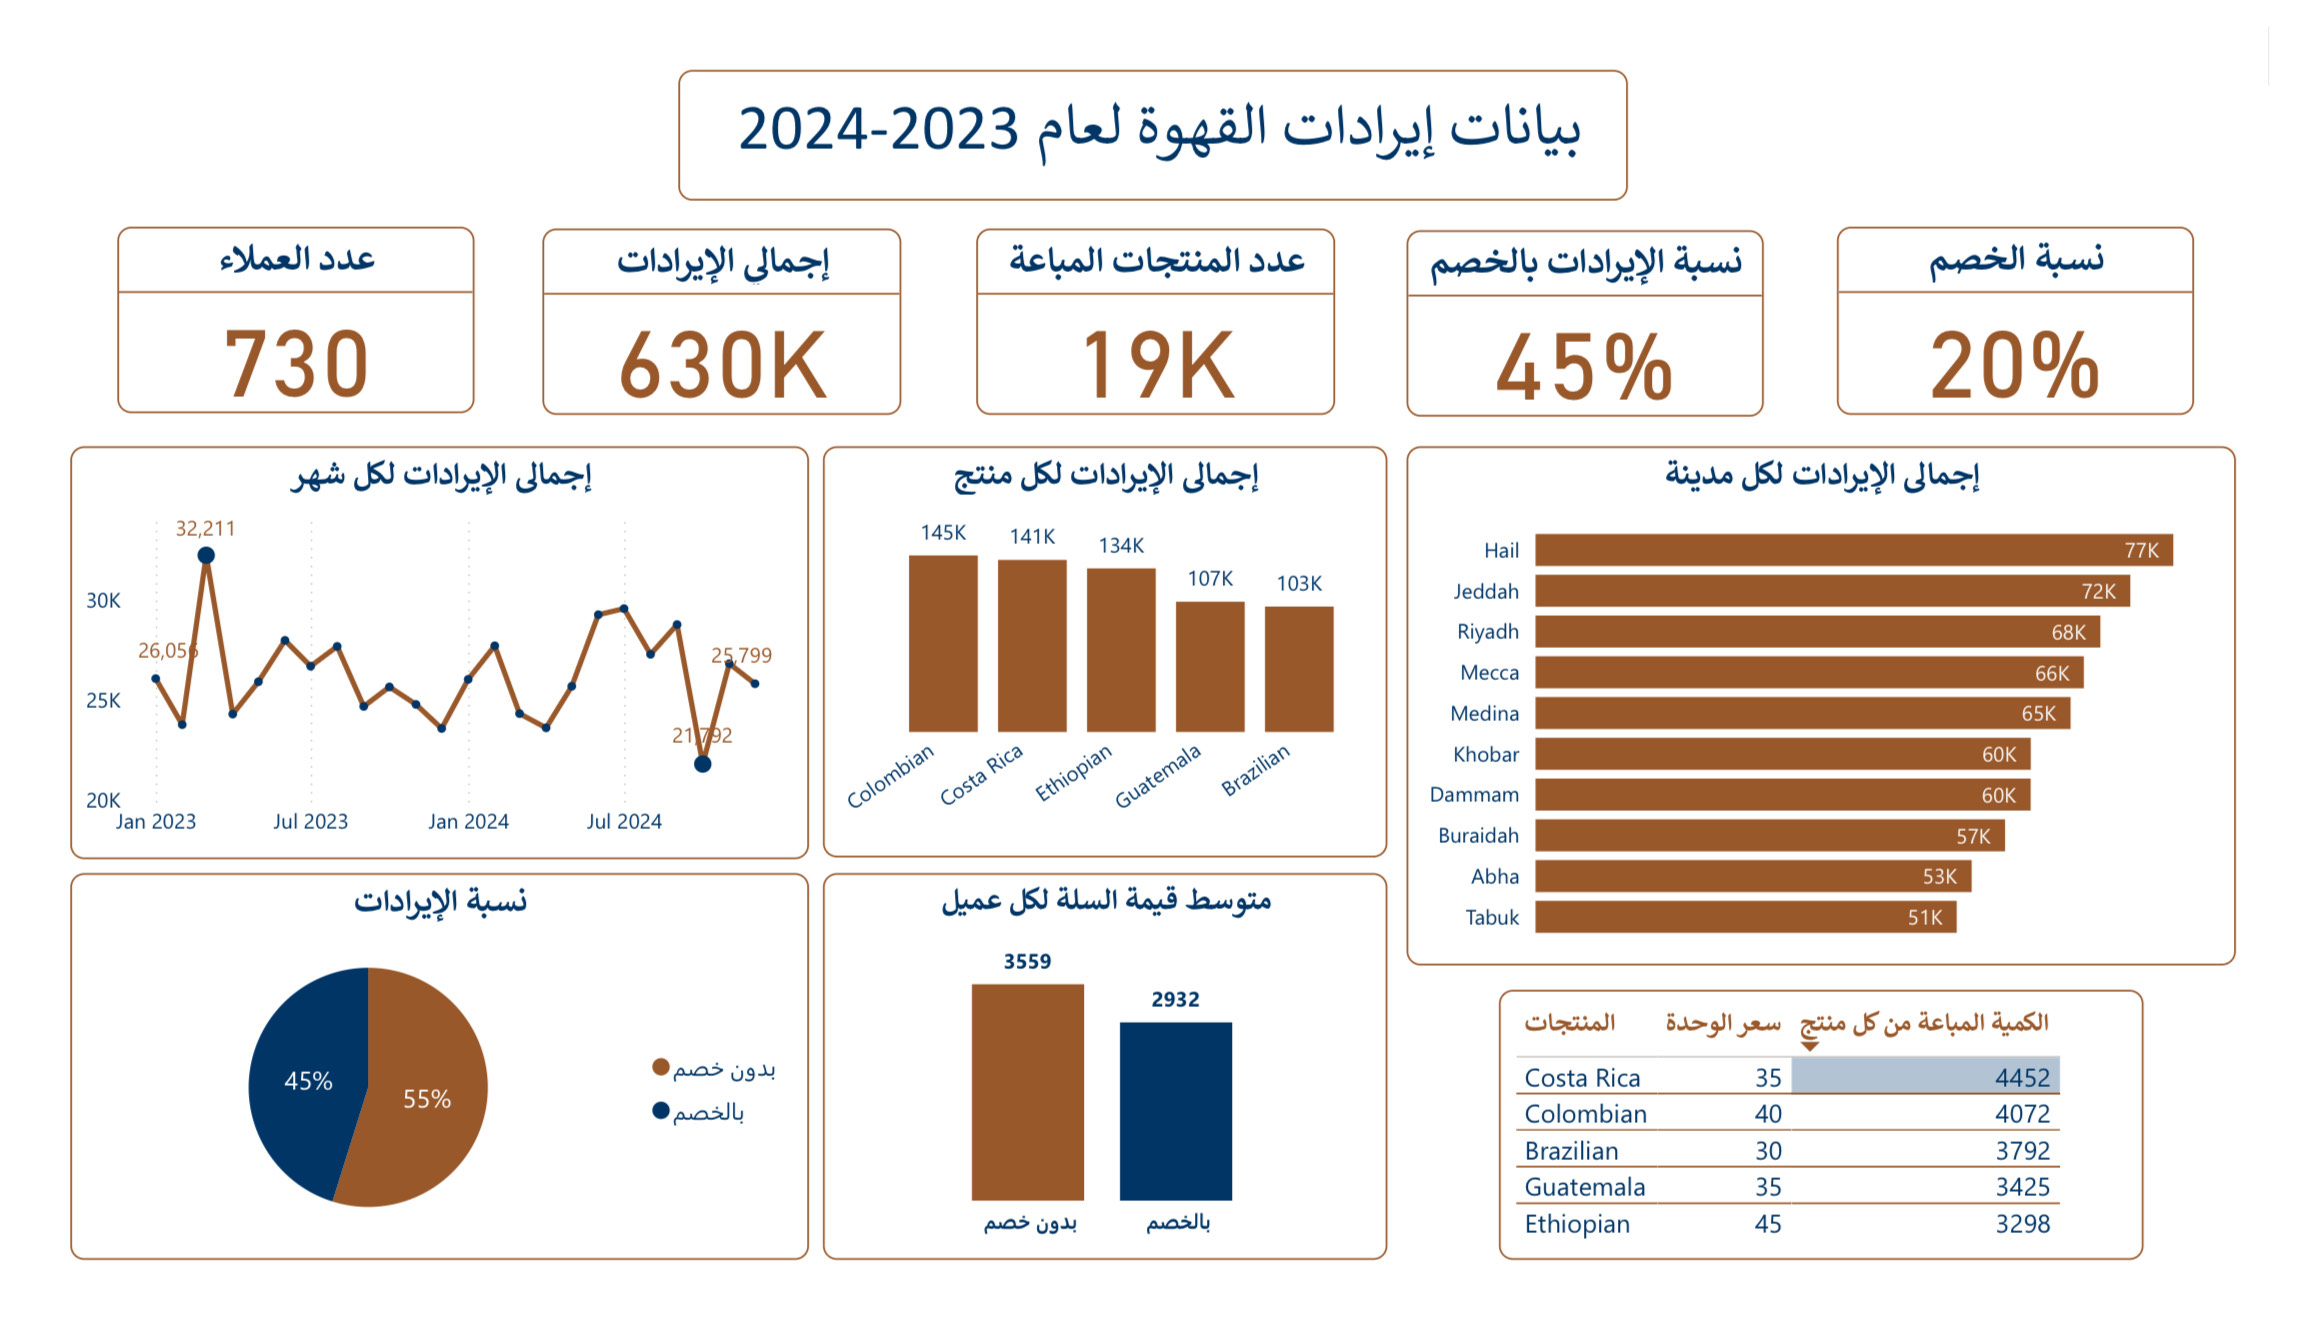

The page's visual inventory and layout, read from the dashboard file:
{"tool":"powerbi","page":{"name":"Page 2","canvas":[1280,720],"ordinal":0},"visuals":[{"type":"card","title":"إجمالي الإيرادات ","fields":{"Values":["Sum(coffee.Final Sales)"]},"box":[289.5,116.1,205.7,107.3],"z":0},{"type":"card","title":"عدد العملاء","fields":{"Values":["CountNonNull(coffee.Customer_ID)"]},"box":[45.5,115.5,205,107],"z":1000},{"type":"card","title":"عدد المنتجات المباعة ","fields":{"Values":["Sum(coffee.Quantity)"]},"box":[537.8,116.1,205.7,107.3],"z":2000},{"type":"card","title":"نسبة الخصم","fields":{"Values":["coffee.Measure"]},"box":[1031.8,115.2,205,107.6],"z":3000},{"type":"lineChart","title":"إجمالي الإيرادات لكل شهر ","fields":{"Category":["coffee.Date.Variation.Date Hierarchy.Year","coffee.Date.Variation.Date Hierarchy.Month"],"Y":["Sum(coffee.Final Sales)"]},"box":[17.6,241,424.7,236.6],"z":4000},{"type":"columnChart","title":"إجمالي الإيرادات لكل منتج","fields":{"Category":["coffee.Product"],"Y":["Sum(coffee.Final Sales)"]},"box":[450,240.9,324.2,236.4],"z":5000},{"type":"clusteredBarChart","title":"إجمالي الإيرادات لكل مدينة","fields":{"Category":["coffee.City"],"Y":["Sum(coffee.Final Sales)"]},"box":[784.8,240.9,475.8,298.5],"z":6000},{"type":"card","title":"نسبة الإيرادات بالخصم ","fields":{"Values":["coffee.Discount Sales Presentage"]},"box":[784.8,116.7,205,107],"z":7000},{"type":"pieChart","title":"نسبة الإيرادات ","fields":{"Y":["Sum(coffee.Final Sales)"],"Category":["coffee.Used_Discount - Arabic"]},"box":[17.6,486.4,424.7,221.9],"z":8000},{"type":"textbox","box":[367.3,25,545.1,74.9],"z":9000},{"type":"tableEx","fields":{"Values":["coffee.Product","coffee.Unit Price","Sum(coffee.Quantity)"]},"box":[837.9,553,369.7,154.5],"z":10000},{"type":"clusteredColumnChart","title":"متوسط قيمة السلة لكل عميل ","fields":{"Y":["coffee.AVg_basket_Value_by_Discount"],"Category":["coffee.Used_Discount - Arabic"]},"box":[450,486.4,324.2,221.2],"z":11000}]}

Visuals, with their boxes in screenshot pixels (x1, y1, x2, y2), scaled from the page's 1280x720 canvas onto the 2305x1319 screenshot:
"إجمالي الإيرادات " card: 521, 213, 892, 409
"عدد العملاء" card: 82, 212, 451, 408
"عدد المنتجات المباعة " card: 968, 213, 1339, 409
"نسبة الخصم" card: 1858, 211, 2227, 408
"إجمالي الإيرادات لكل شهر " lineChart: 32, 441, 796, 875
"إجمالي الإيرادات لكل منتج" columnChart: 810, 441, 1394, 874
"إجمالي الإيرادات لكل مدينة" clusteredBarChart: 1413, 441, 2270, 988
"نسبة الإيرادات بالخصم " card: 1413, 214, 1782, 410
"نسبة الإيرادات " pieChart: 32, 891, 796, 1298
textbox: 661, 46, 1643, 183
tableEx - coffee.Product x coffee.Unit Price: 1509, 1013, 2175, 1296
"متوسط قيمة السلة لكل عميل " clusteredColumnChart: 810, 891, 1394, 1296
